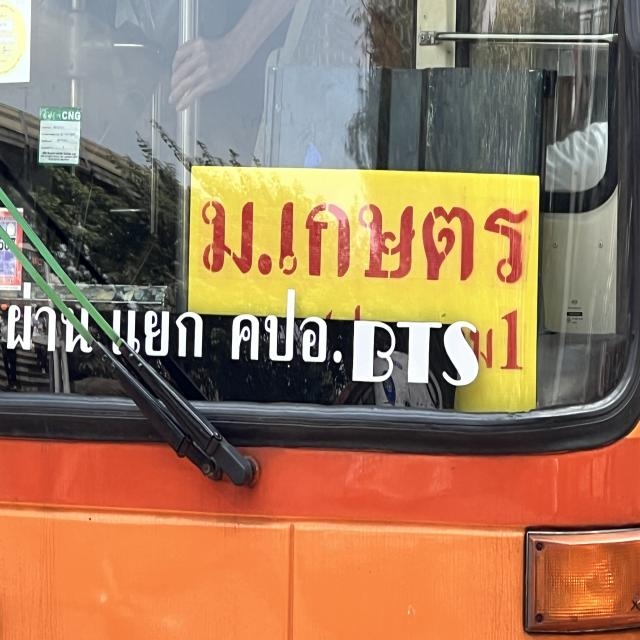BMTA-bus: (0, 0, 640, 640)
Destination-Sign-Extra-Bus-Expressway: (186, 162, 540, 408)
